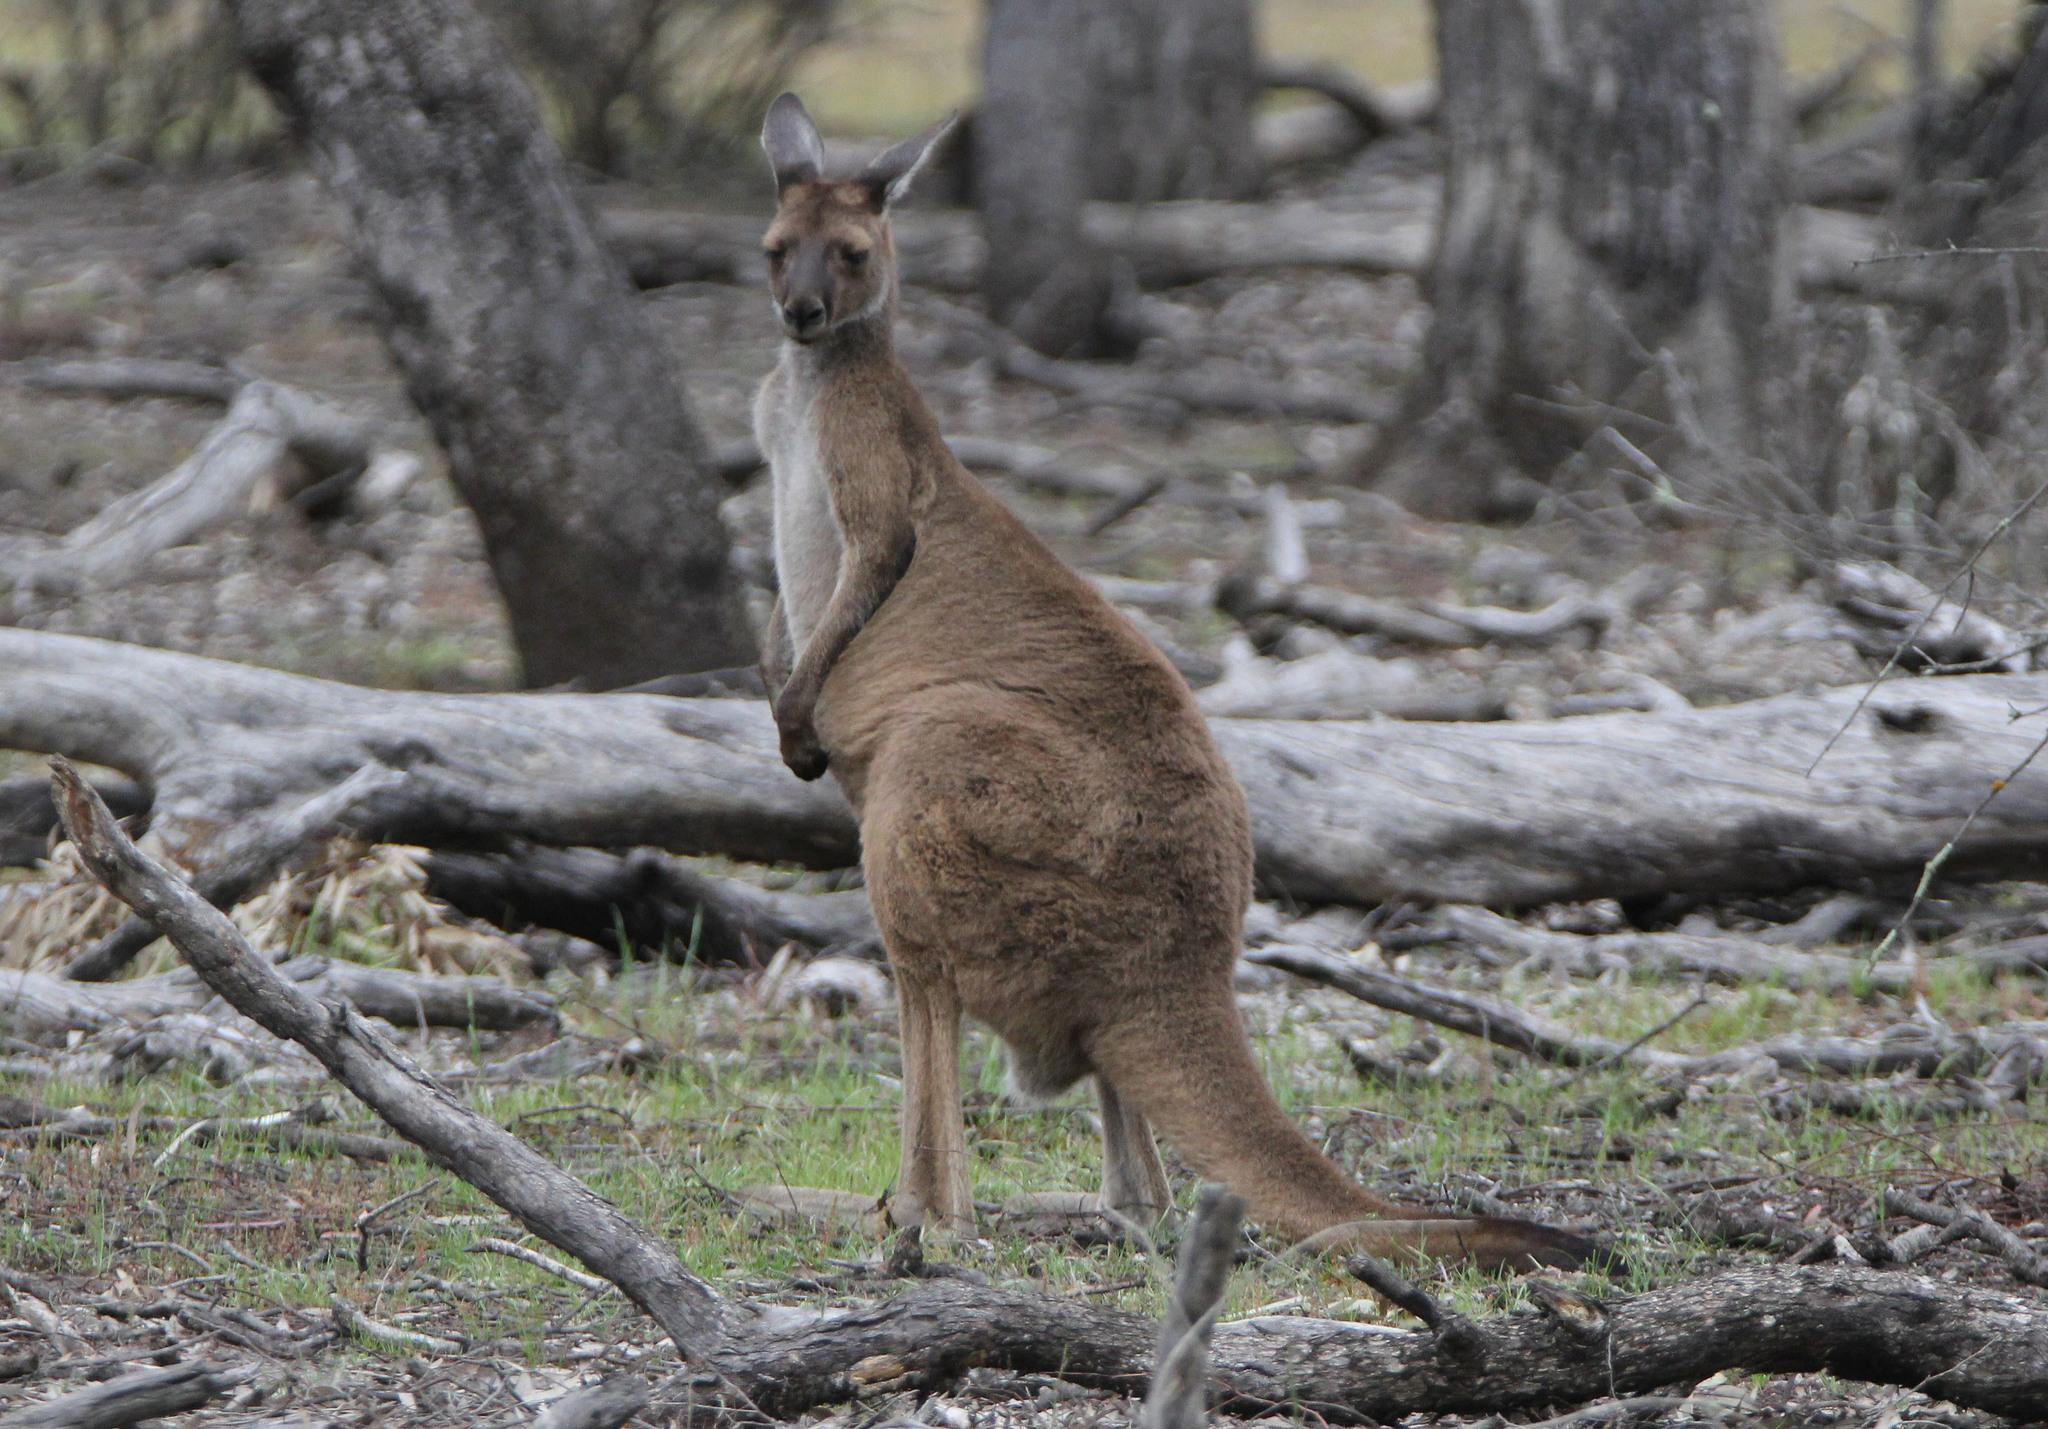Western grey kangaroo: (705, 83, 1625, 1373)
